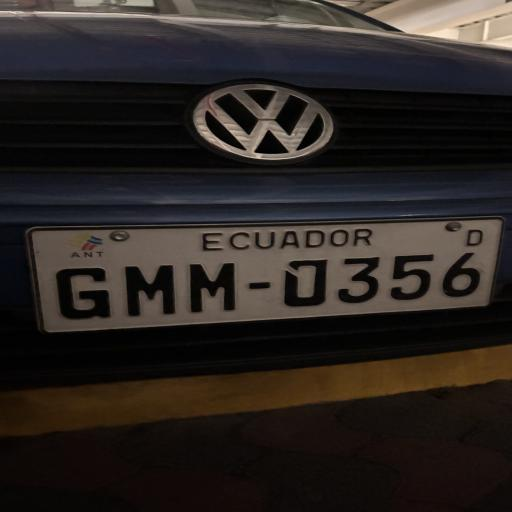license_plate: (28, 218, 502, 332)
